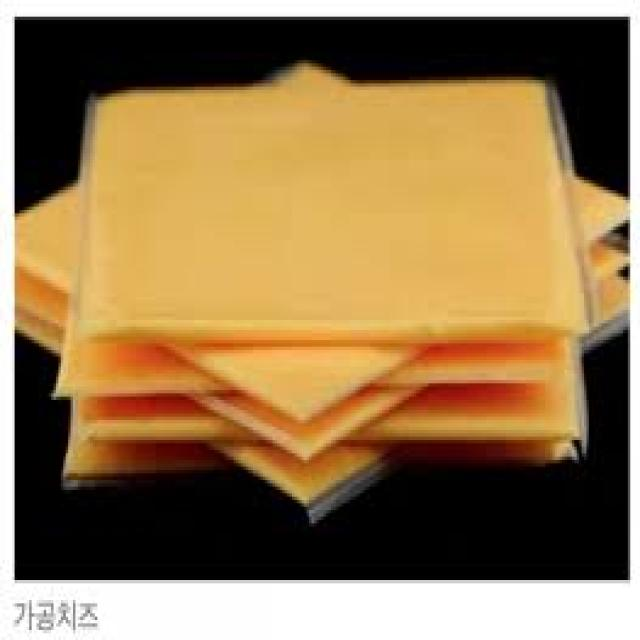cheese: (14, 66, 629, 502)
